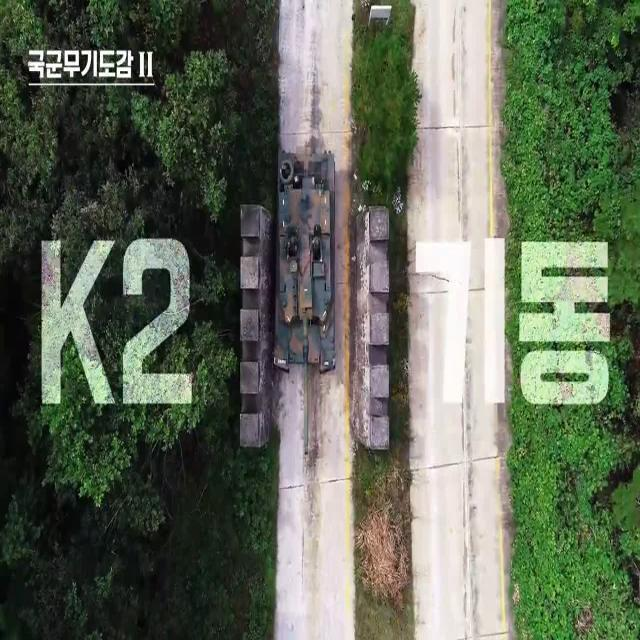korea tank: (272, 149, 338, 455)
